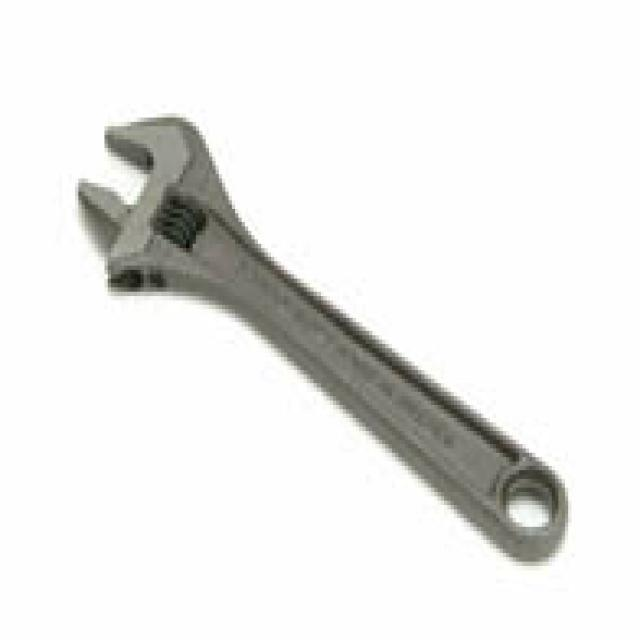wrench: (72, 100, 580, 574)
